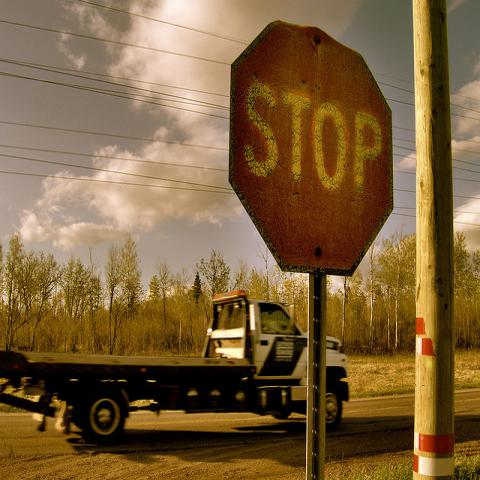truck: (0, 285, 353, 440)
